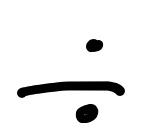div: (18, 40, 125, 123)
